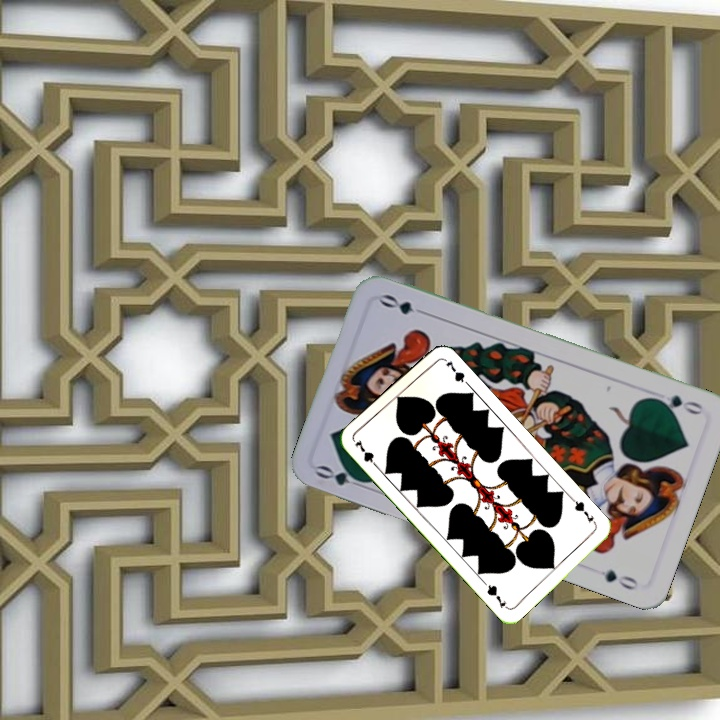G7: (350, 436, 382, 472), (568, 495, 599, 528)
GO: (312, 461, 372, 492), (648, 391, 706, 418)
